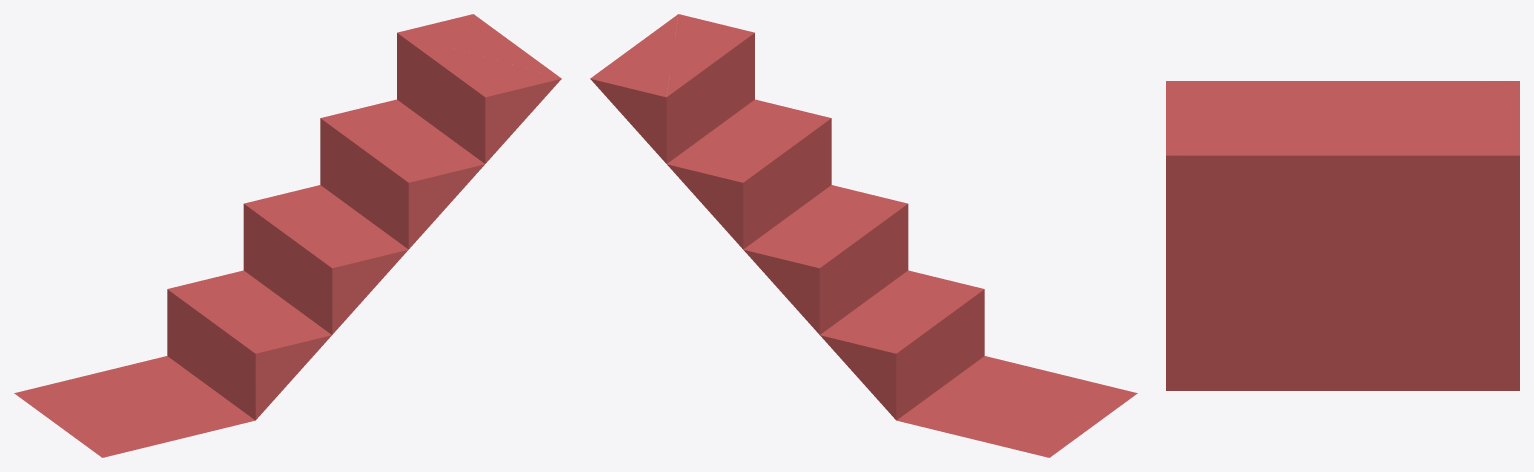
Rendered from km1_dorifu0.glb.
The picture shows the model from 3 angles, left to right: view 1: azimuth 30°, elevation 25°; view 2: azimuth 150°, elevation 25°; view 3: azimuth 270°, elevation 25°; orthographic projection. The views are drawn at different scales.
Visible parts, largest first — view 1: km1_dorifu0_col; view 2: km1_dorifu0_col; view 3: km1_dorifu0_col.
Part boxes in pixels (<box>): km1_dorifu0_col: <box>14,14,561,457</box>; km1_dorifu0_col: <box>590,14,1137,457</box>; km1_dorifu0_col: <box>1166,81,1519,390</box>.
Size of the model in its own units: 1.8 by 1 by 0.6.
